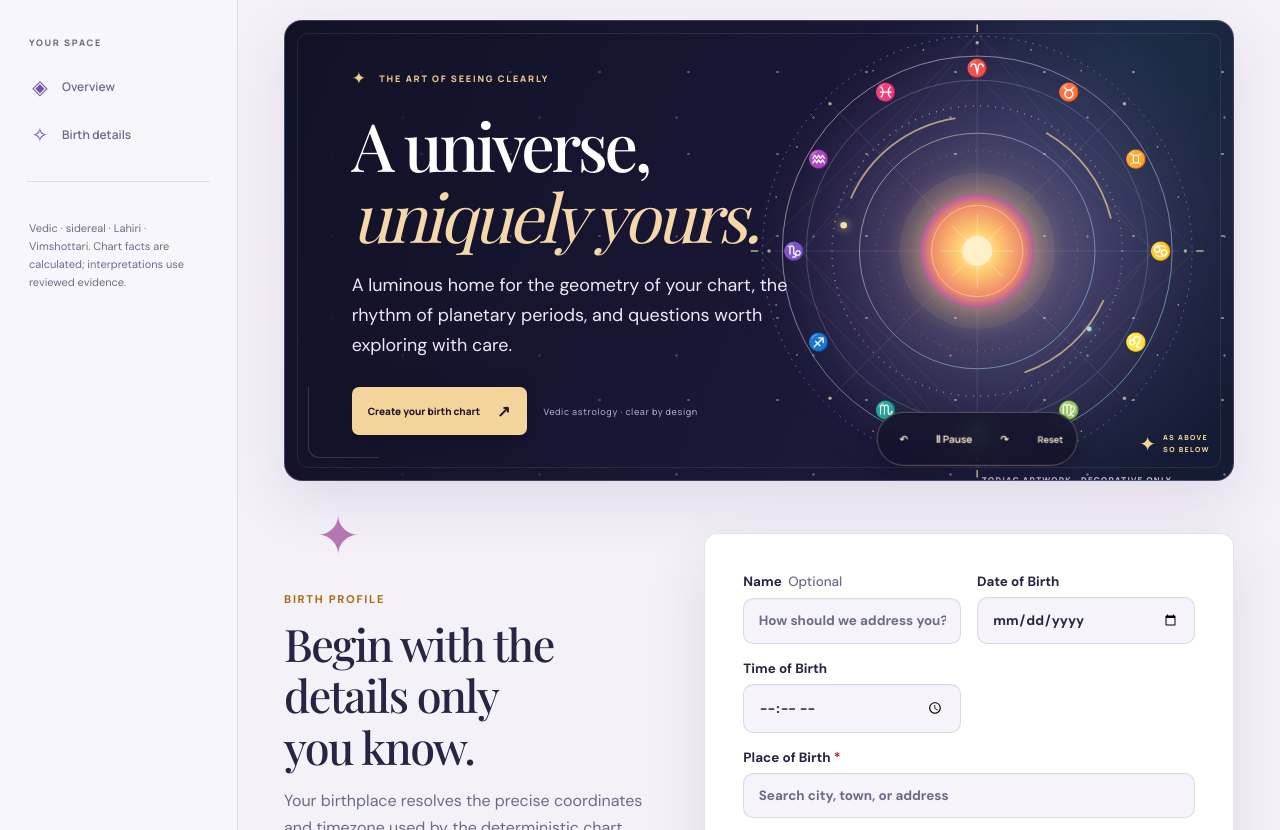
Test: JyotishAI consumer experience › shows an unavailable state for incomplete Dasha data
The image size is (1280, 830).
Type "1990-01-15" into the date field labelled "Date of Birth".
click(1086, 620); type("1990-01-15")  # box [977,597,1194,644]
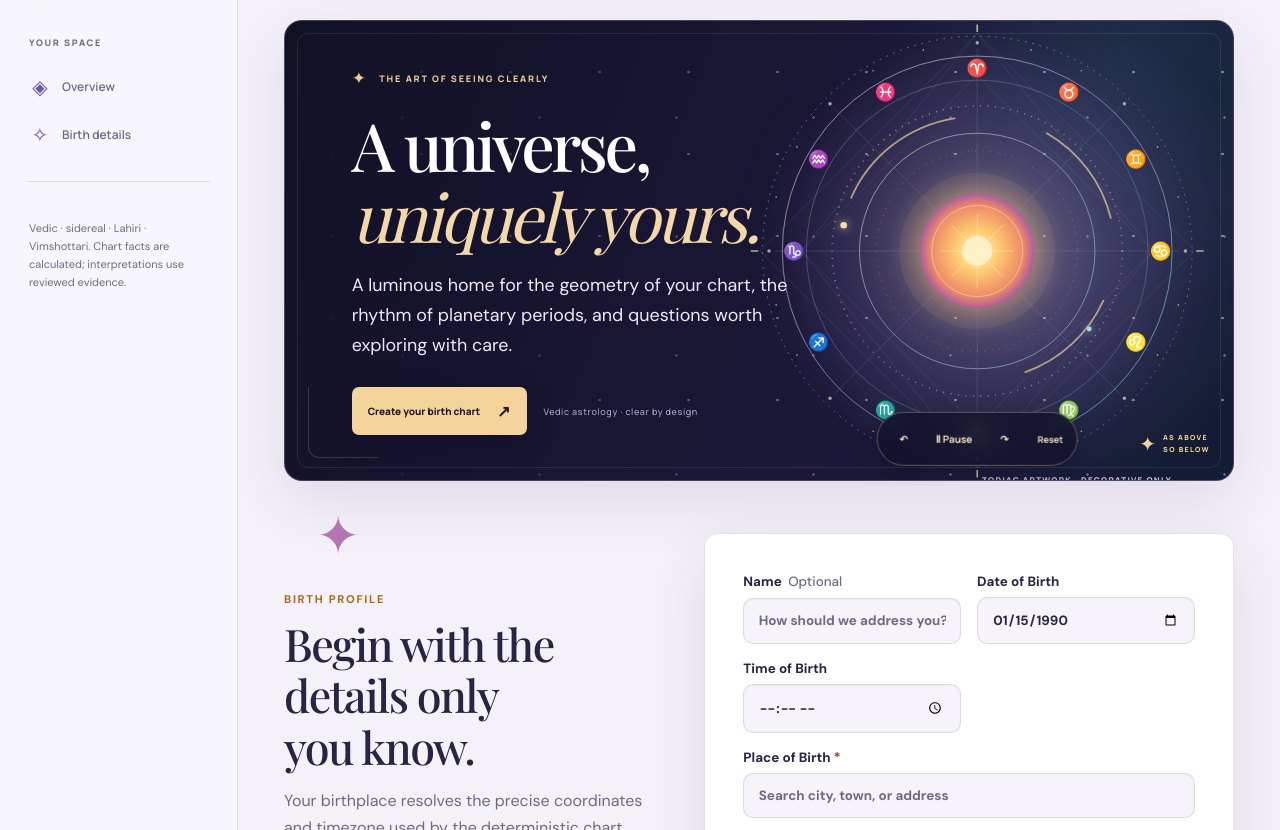
Type "09:30" into the time field labelled "Time of Birth".
click(852, 708); type("09:30")  # box [743,684,961,733]
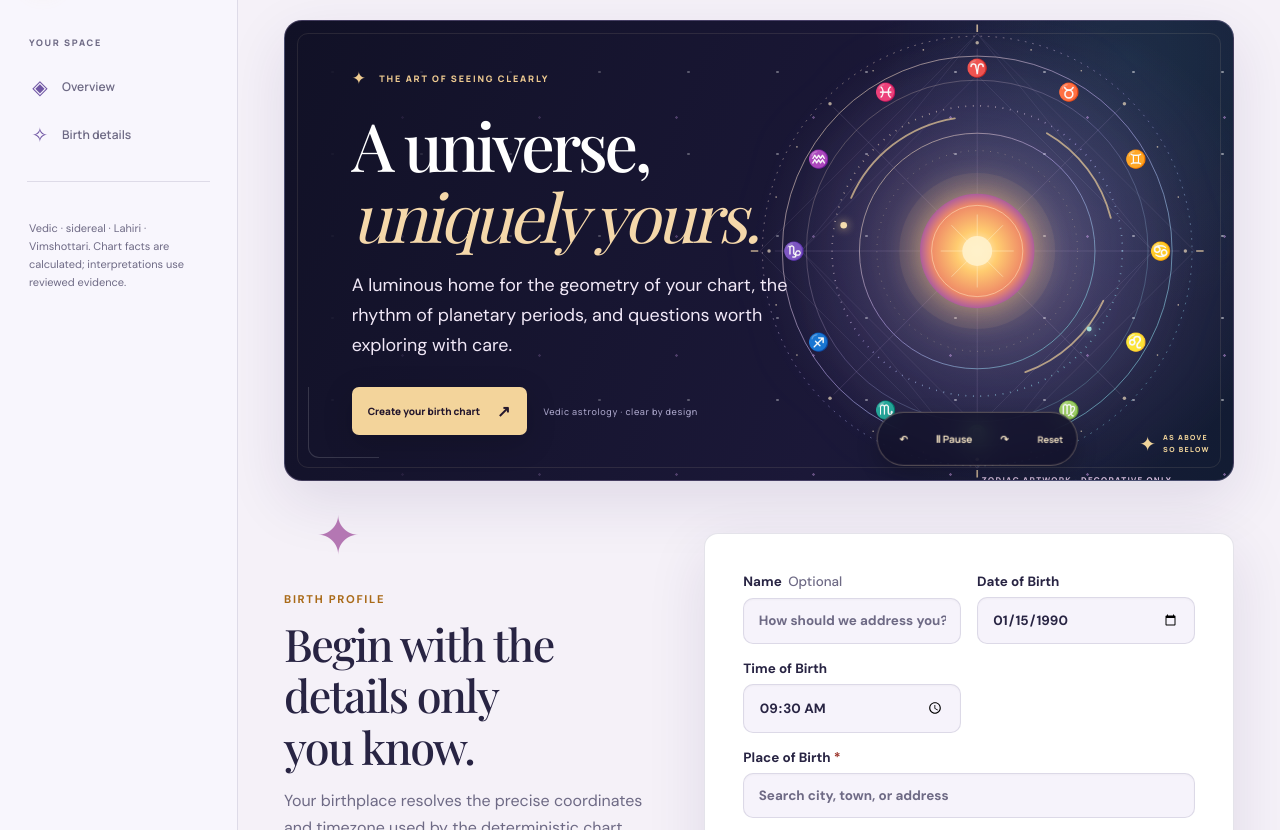
Type "Gurgaon" into the field labelled "Place of Birth *".
click(969, 795); type("Gurgaon")  # box [743,773,1194,818]
(page scrolled)
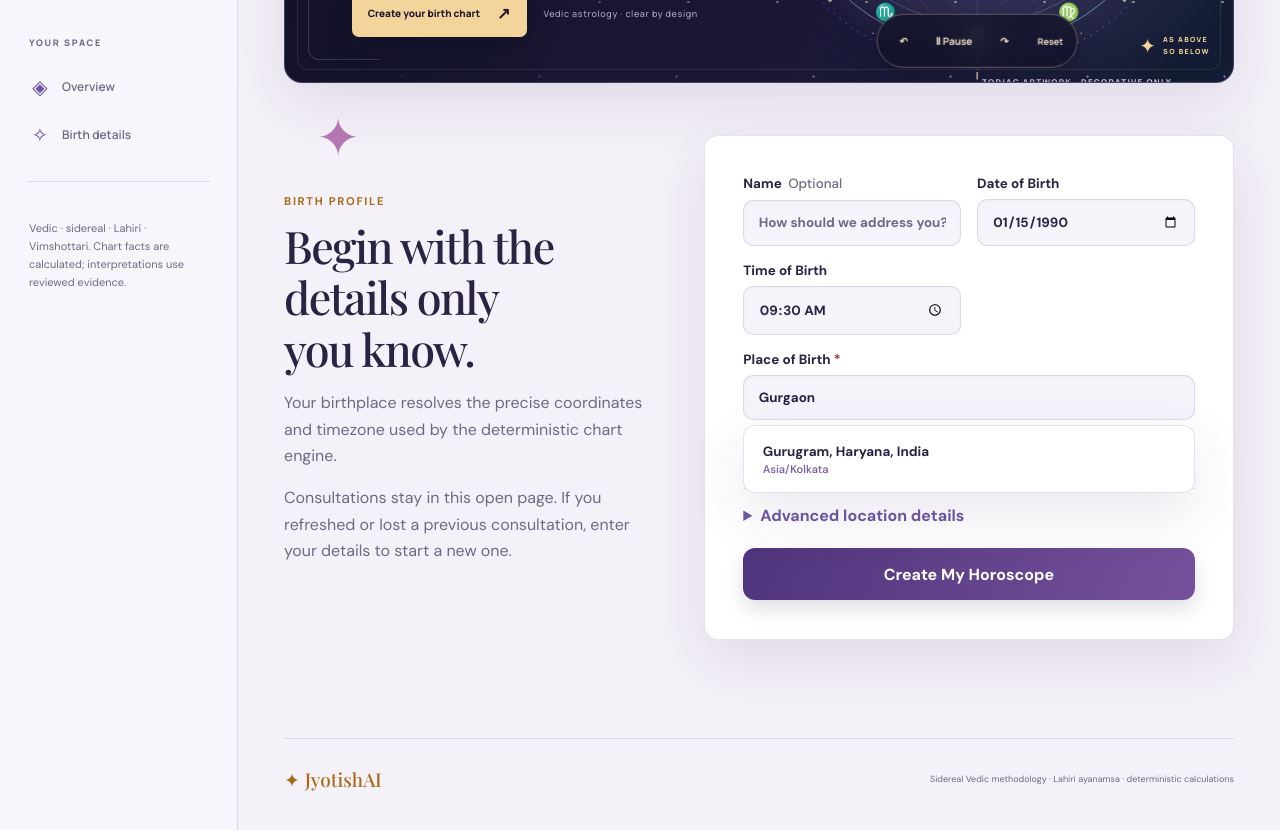
Now the option "Gurugram, Haryana, India Asia/Kolkata" is shown, box [749,431,1189,488]
Click the text "Gurugram, Haryana, India".
click(846, 451)  # box [763,443,929,460]
(page scrolled)
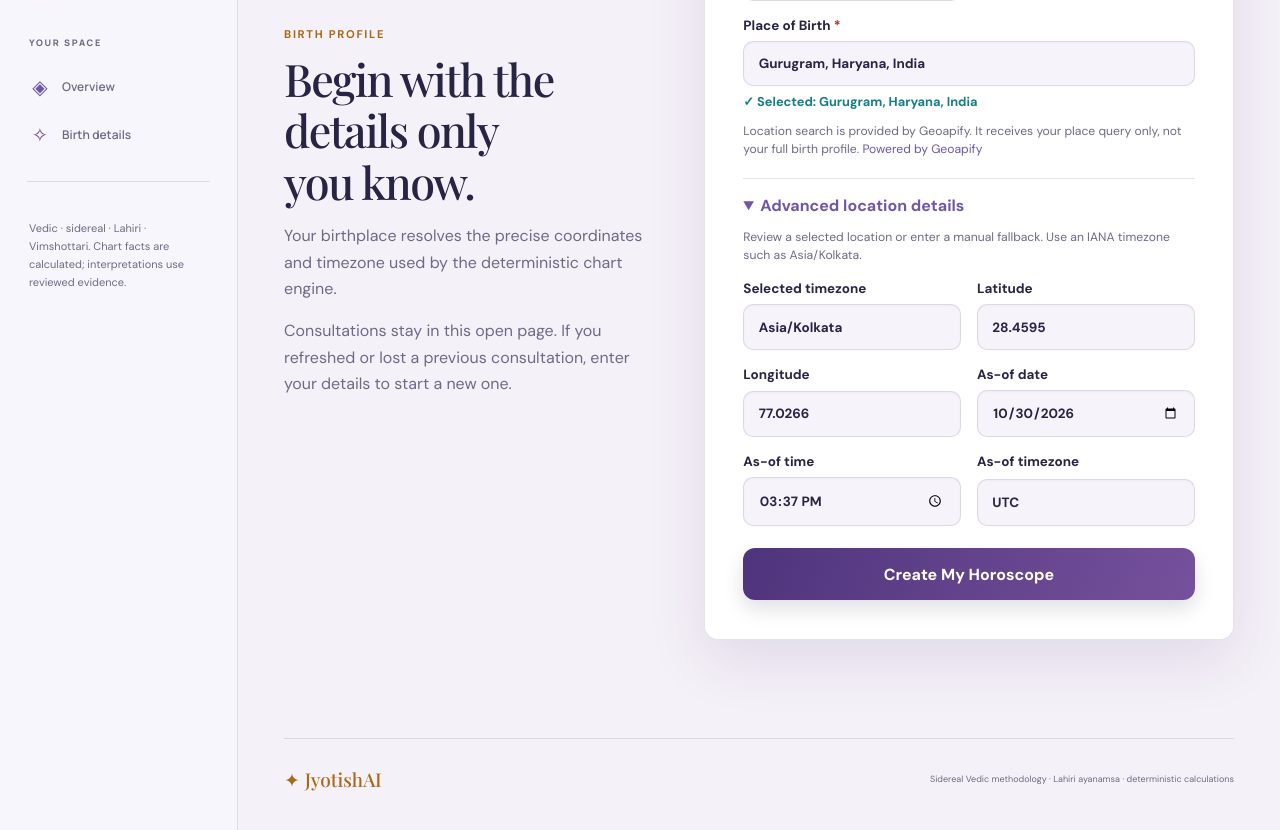
Click the button "Create My Horoscope".
click(969, 574)  # box [743,548,1194,600]
(page scrolled)
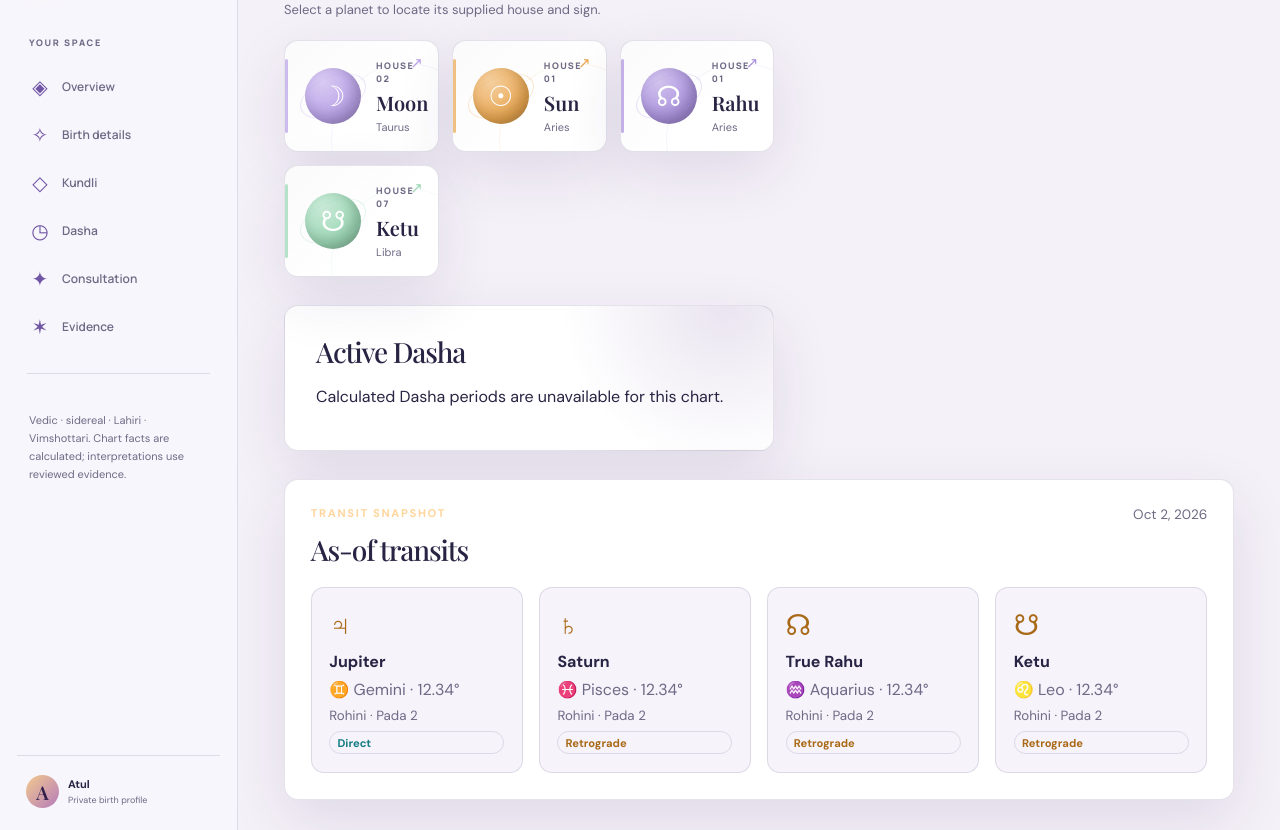
Now the text "Calculated Dasha periods are unavailable for this chart." is shown, box [316,386,742,407]
